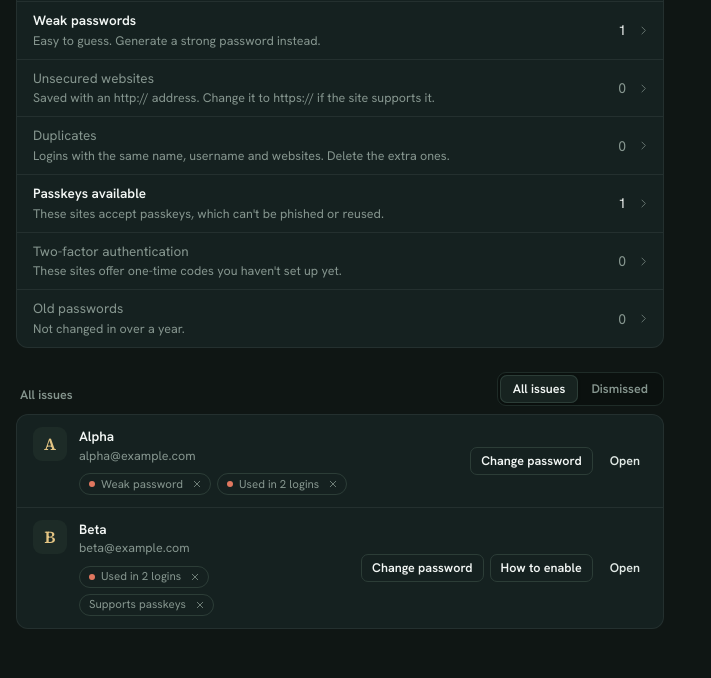
Test case: HealthView › says the site publishes no guide when Rust finds no help link
This screenshot has width=711, height=678.
(page scrolled)
Step 1. Click the button "How to enable" → (541, 568), box [490,554,593,582]
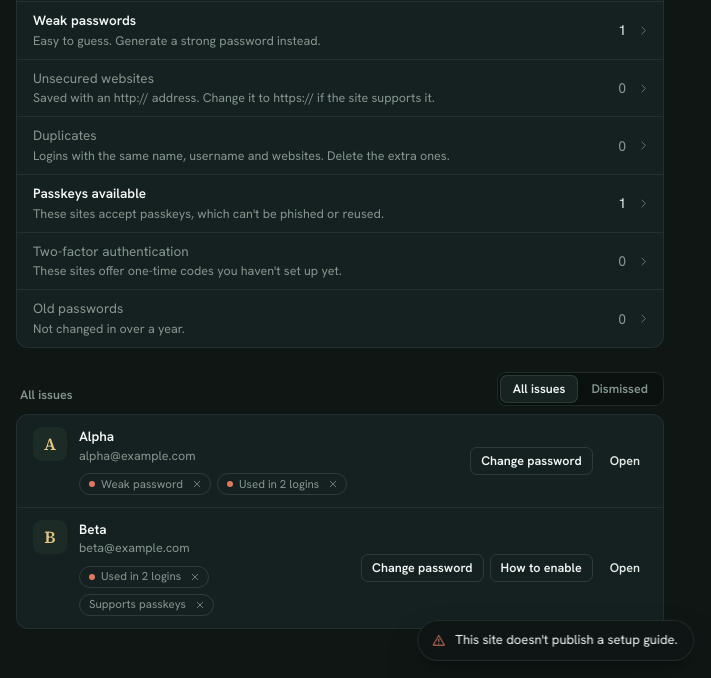
Now the text "This site doesn't publish a setup guide." is shown, box [455,631,678,650]
